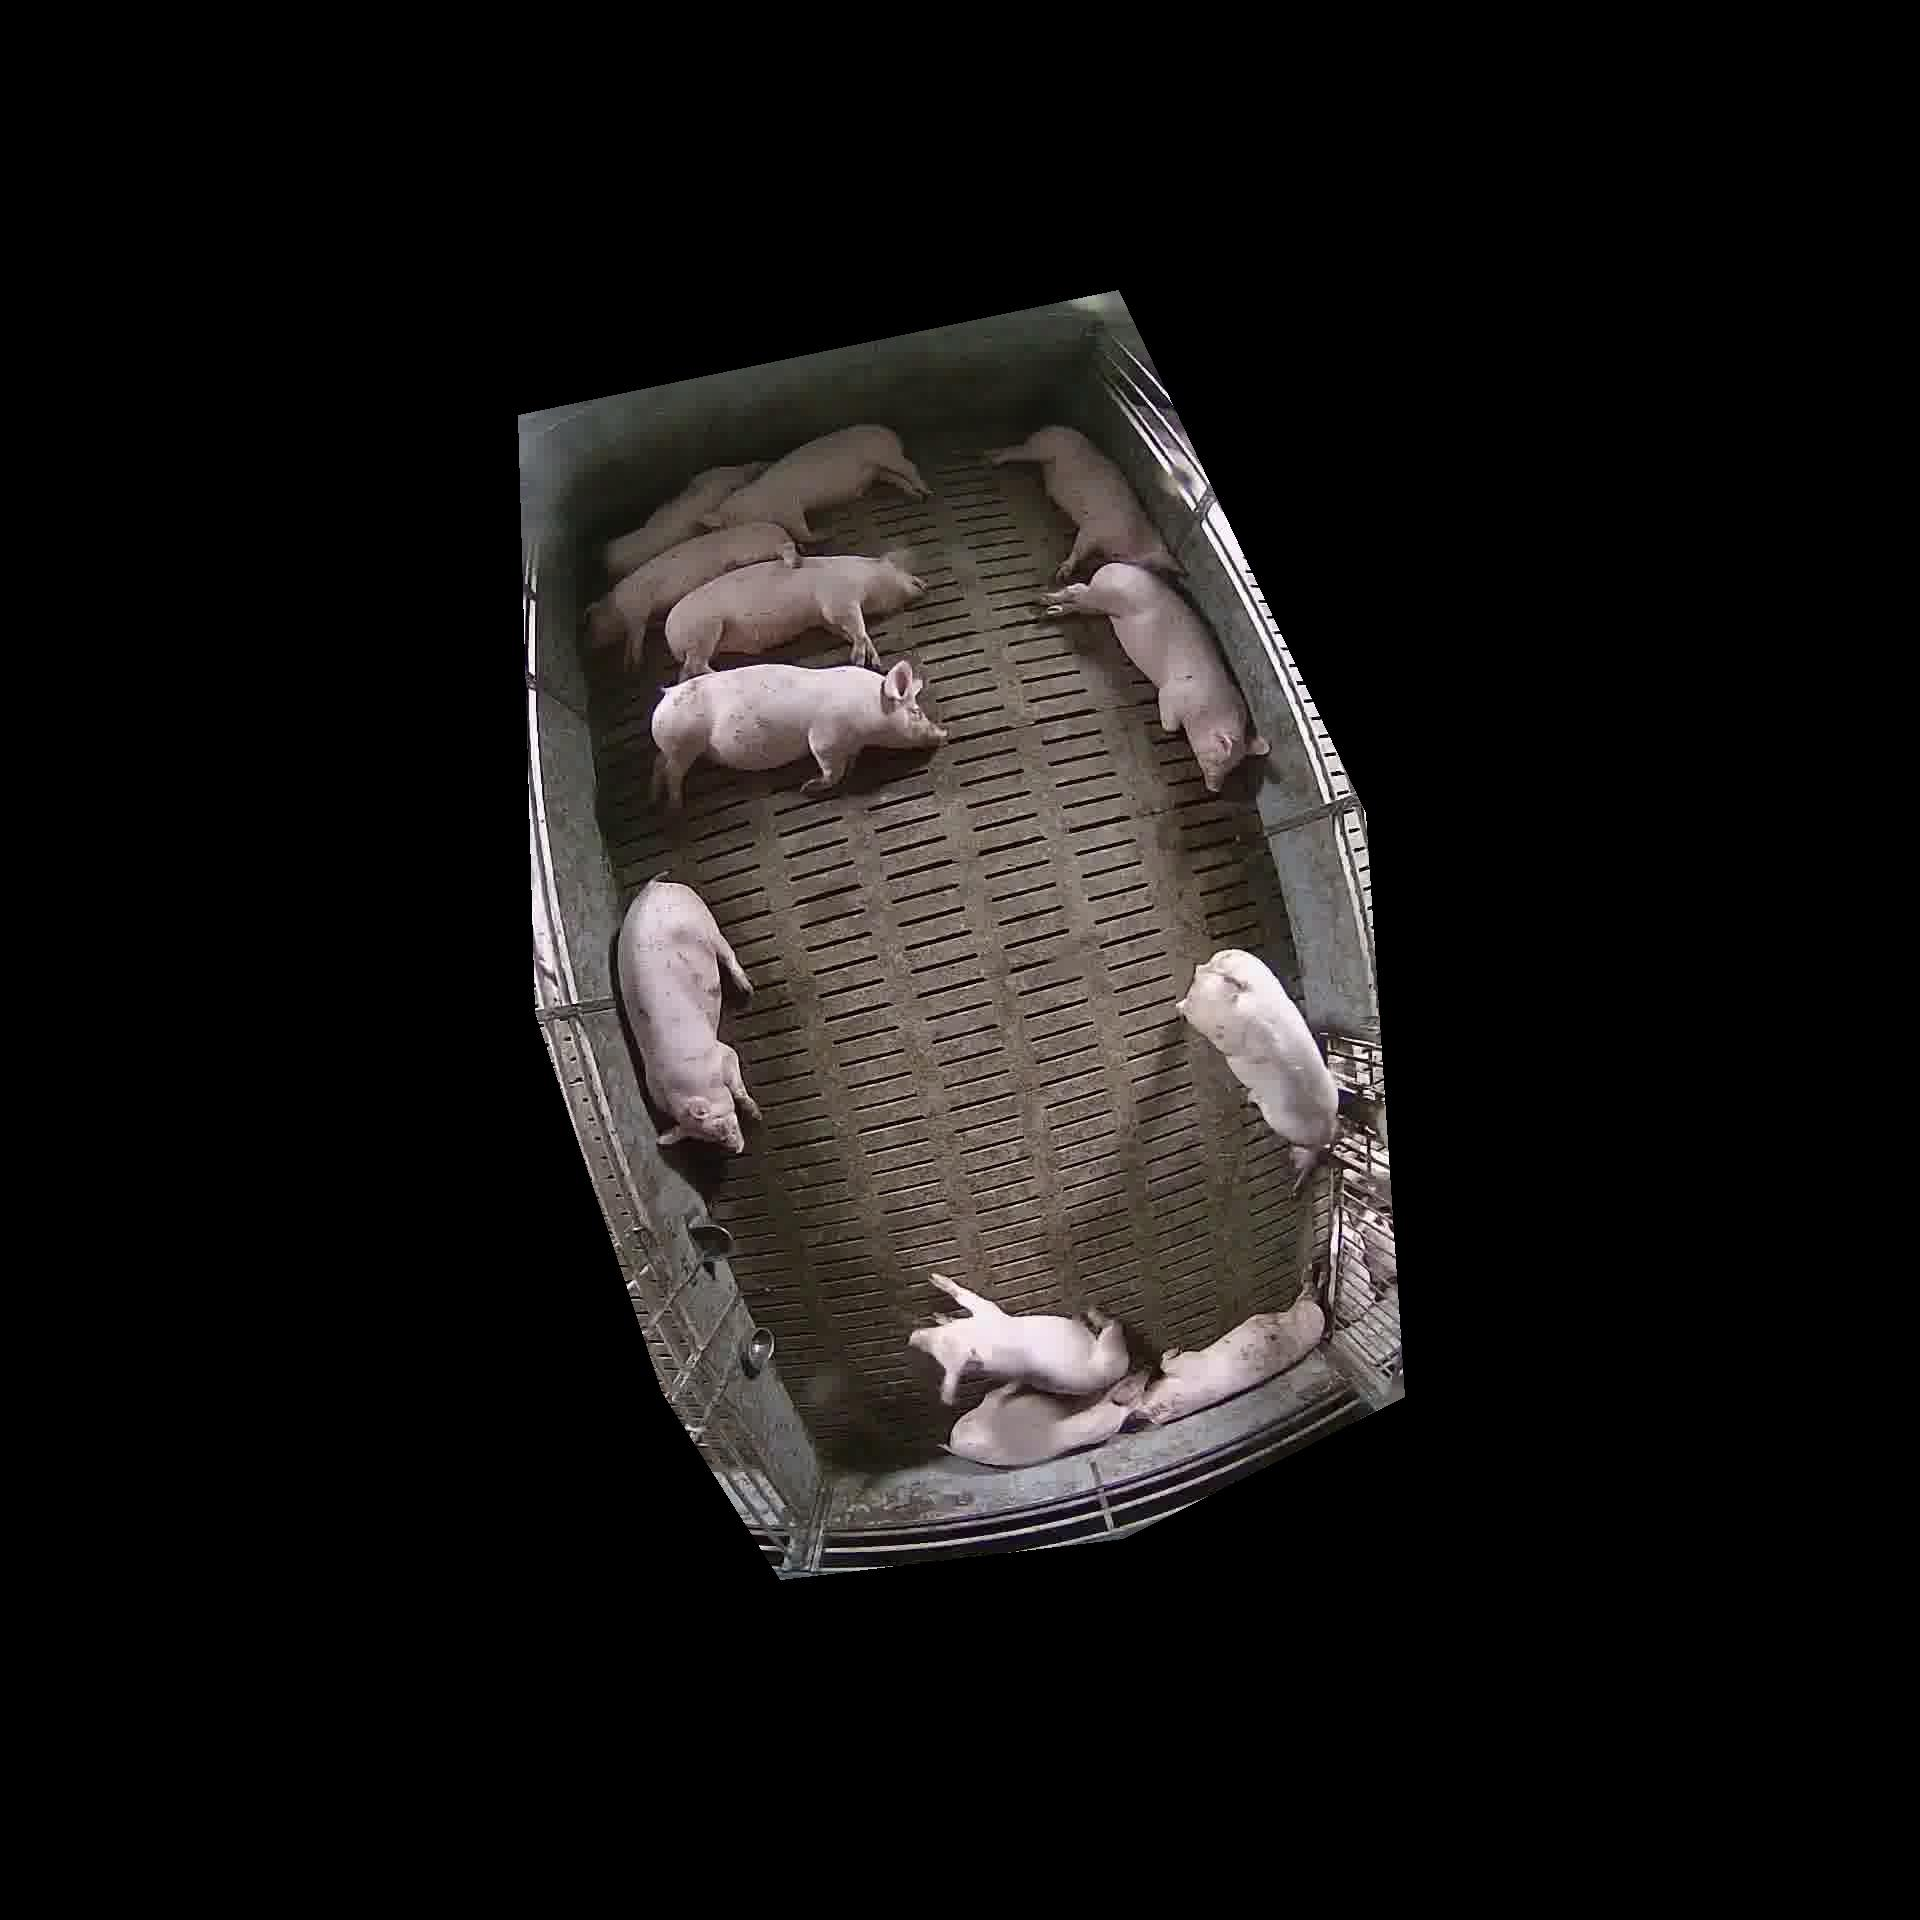pig: (1041, 559, 1266, 788), (652, 661, 946, 807), (617, 879, 760, 1152), (1176, 949, 1338, 1189), (665, 550, 925, 679), (587, 522, 796, 666), (985, 425, 1176, 578), (911, 1275, 1129, 1405), (702, 425, 928, 542), (1138, 1296, 1326, 1424), (603, 462, 765, 580), (949, 1373, 1146, 1466)
